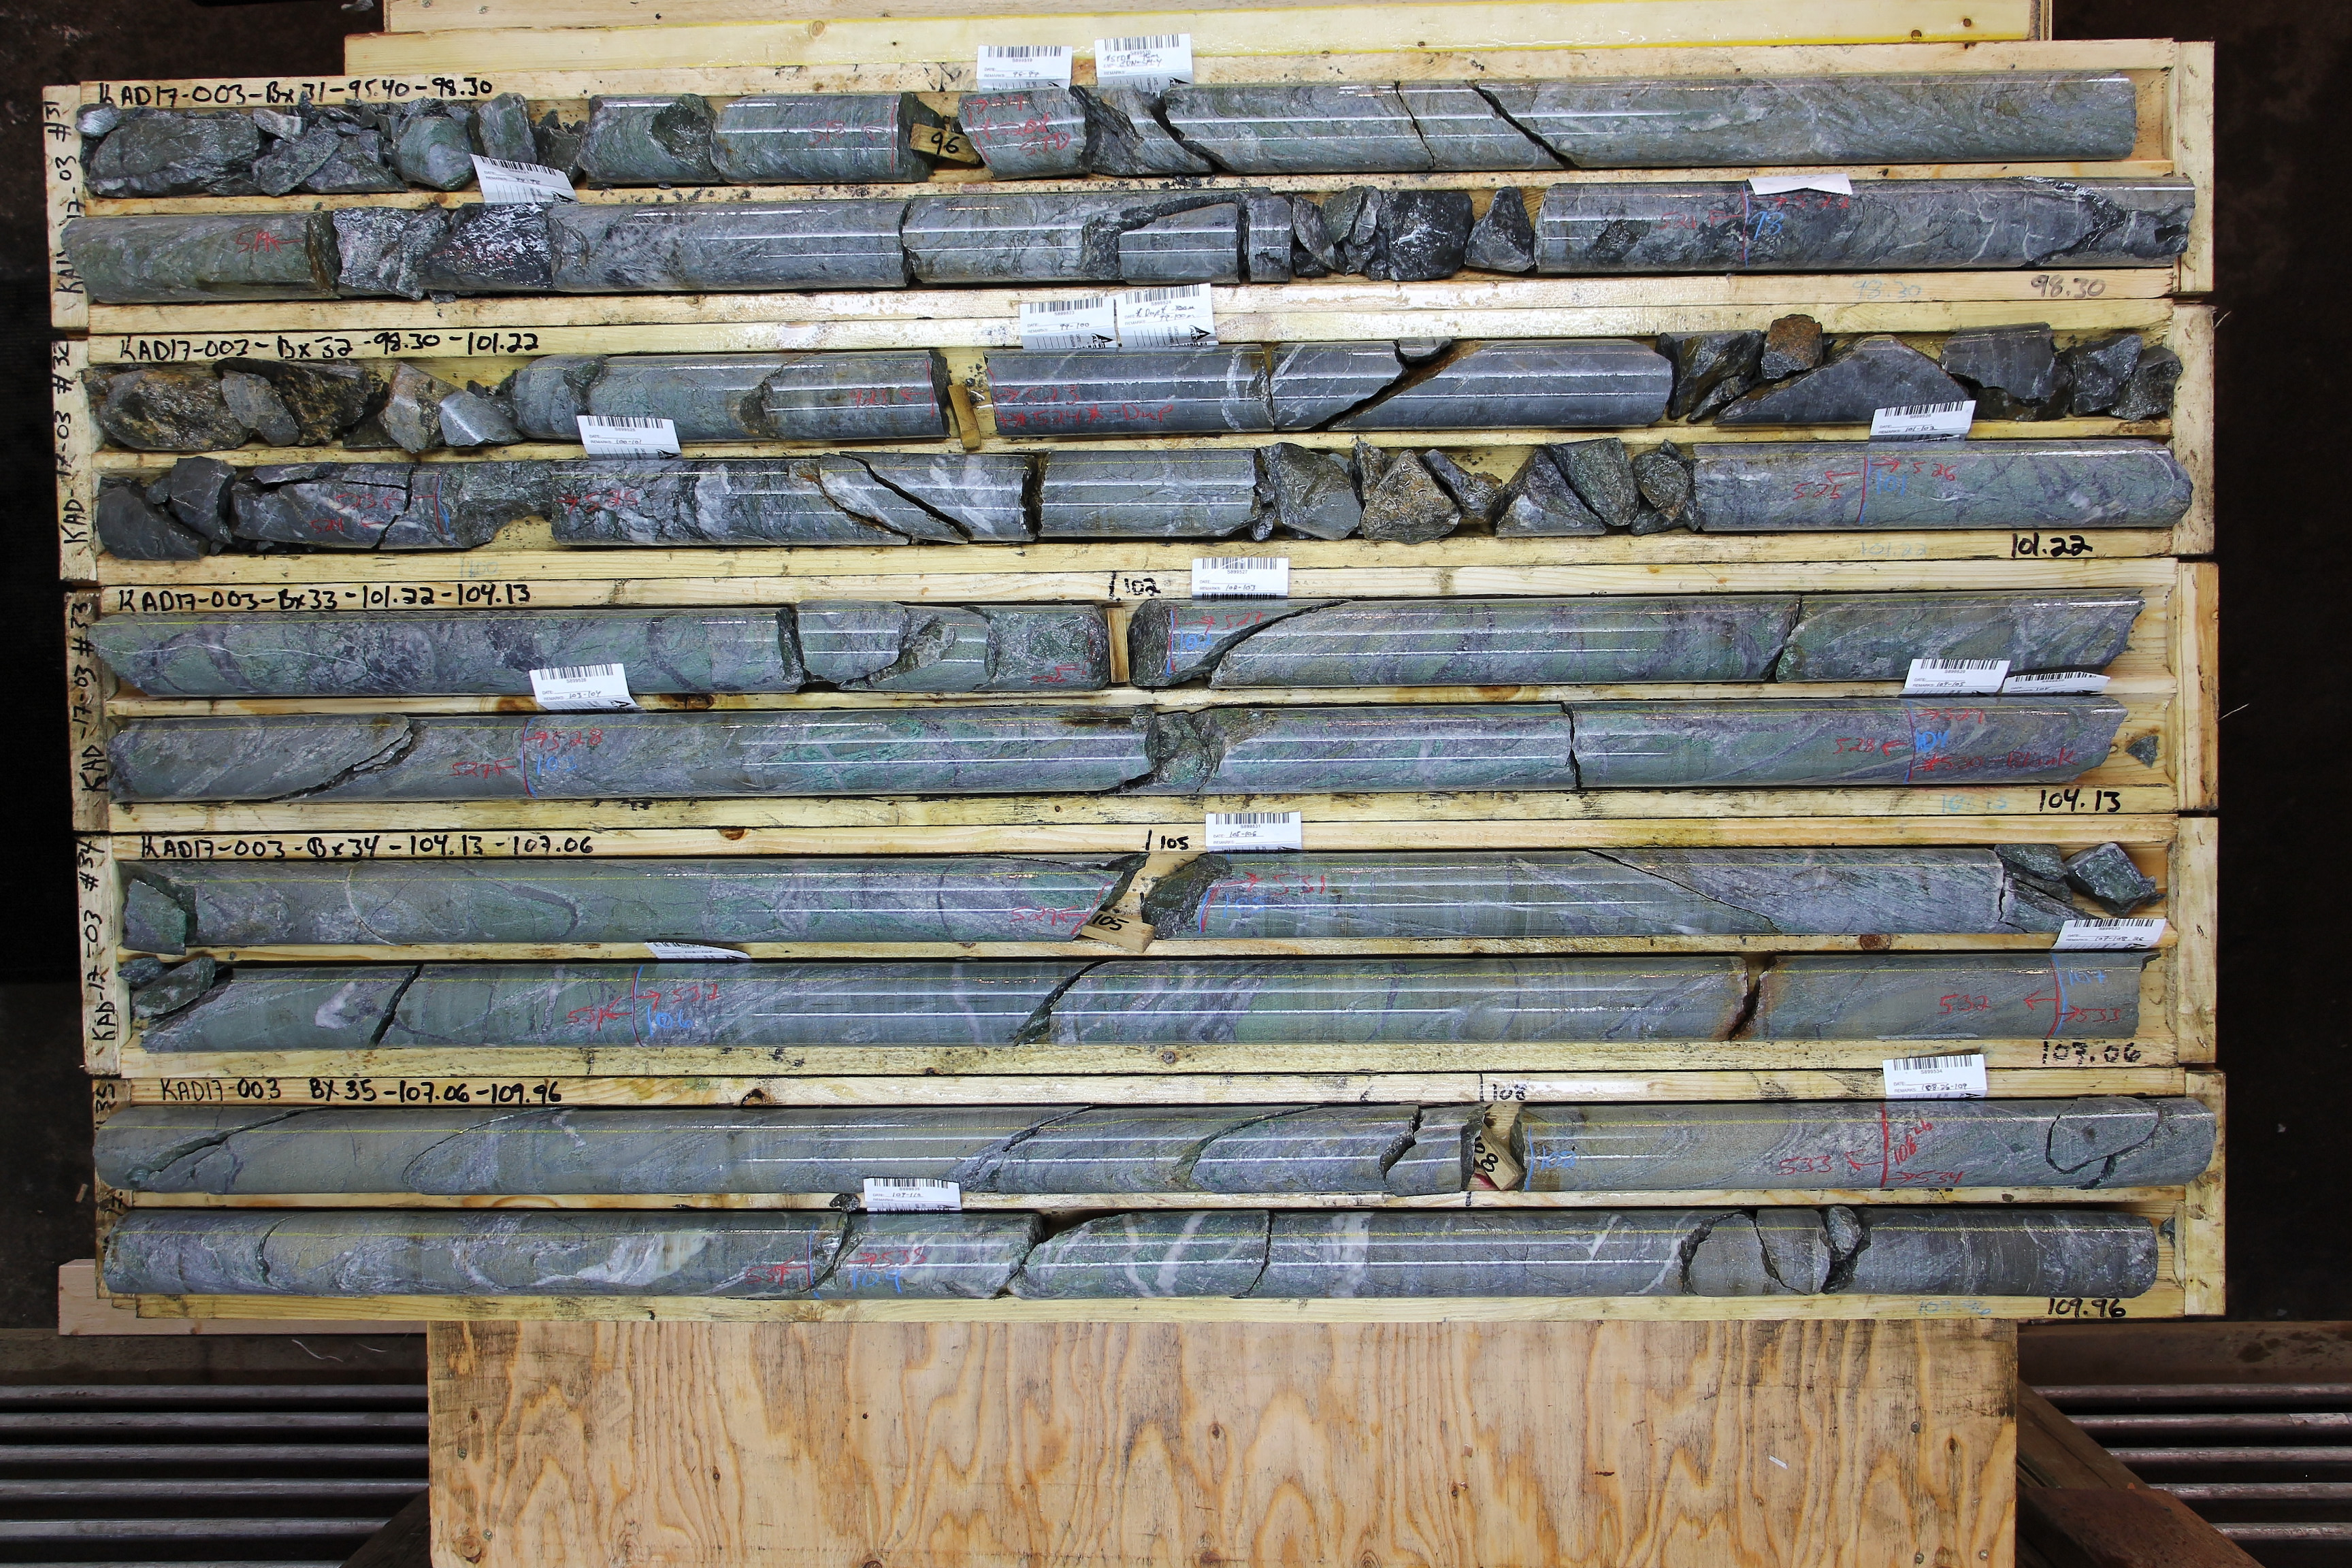rock-KAD17_003-100-101: (445, 446, 1861, 546)
rock-KAD17_003-101-101x: (1866, 441, 2175, 527)
rock-KAD17_003-101x-102: (105, 607, 1113, 700)
rock-KAD17_003-102-102x: (1164, 592, 2136, 685)
rock-KAD17_003-102x-103: (115, 717, 529, 802)
rock-KAD17_003-103-104: (530, 700, 1912, 794)
rock-KAD17_003-104-104x: (1912, 700, 2127, 779)
rock-KAD17_003-104x-105: (118, 859, 1079, 941)
rock-KAD17_003-105-105x: (1190, 849, 2155, 932)
rock-KAD17_003-105x-106: (132, 962, 639, 1051)
rock-KAD17_003-106-107: (642, 955, 2059, 1043)
rock-KAD17_003-107-107x: (2059, 951, 2160, 1037)
rock-KAD17_003-107x-108: (132, 1107, 1469, 1191)
rock-KAD17_003-108-108x: (1520, 1100, 2185, 1185)
rock-KAD17_003-108x-109: (130, 1210, 810, 1298)
rock-KAD17_003-109-109.96: (816, 1205, 2158, 1299)
rock-KAD17_003-95.40-96: (84, 94, 902, 192)
rock-KAD17_003-96-96x: (970, 76, 2136, 172)
rock-KAD17_003-96x-97: (89, 212, 338, 305)
rock-KAD17_003-97-98: (340, 186, 1746, 301)
rock-KAD17_003-98-98x: (1748, 183, 2174, 269)
rock-KAD17_003-98x-99: (97, 353, 945, 455)
rock-KAD17_003-99-99x: (983, 330, 2168, 438)
rock-KAD17_003-99x-100: (101, 464, 439, 553)
